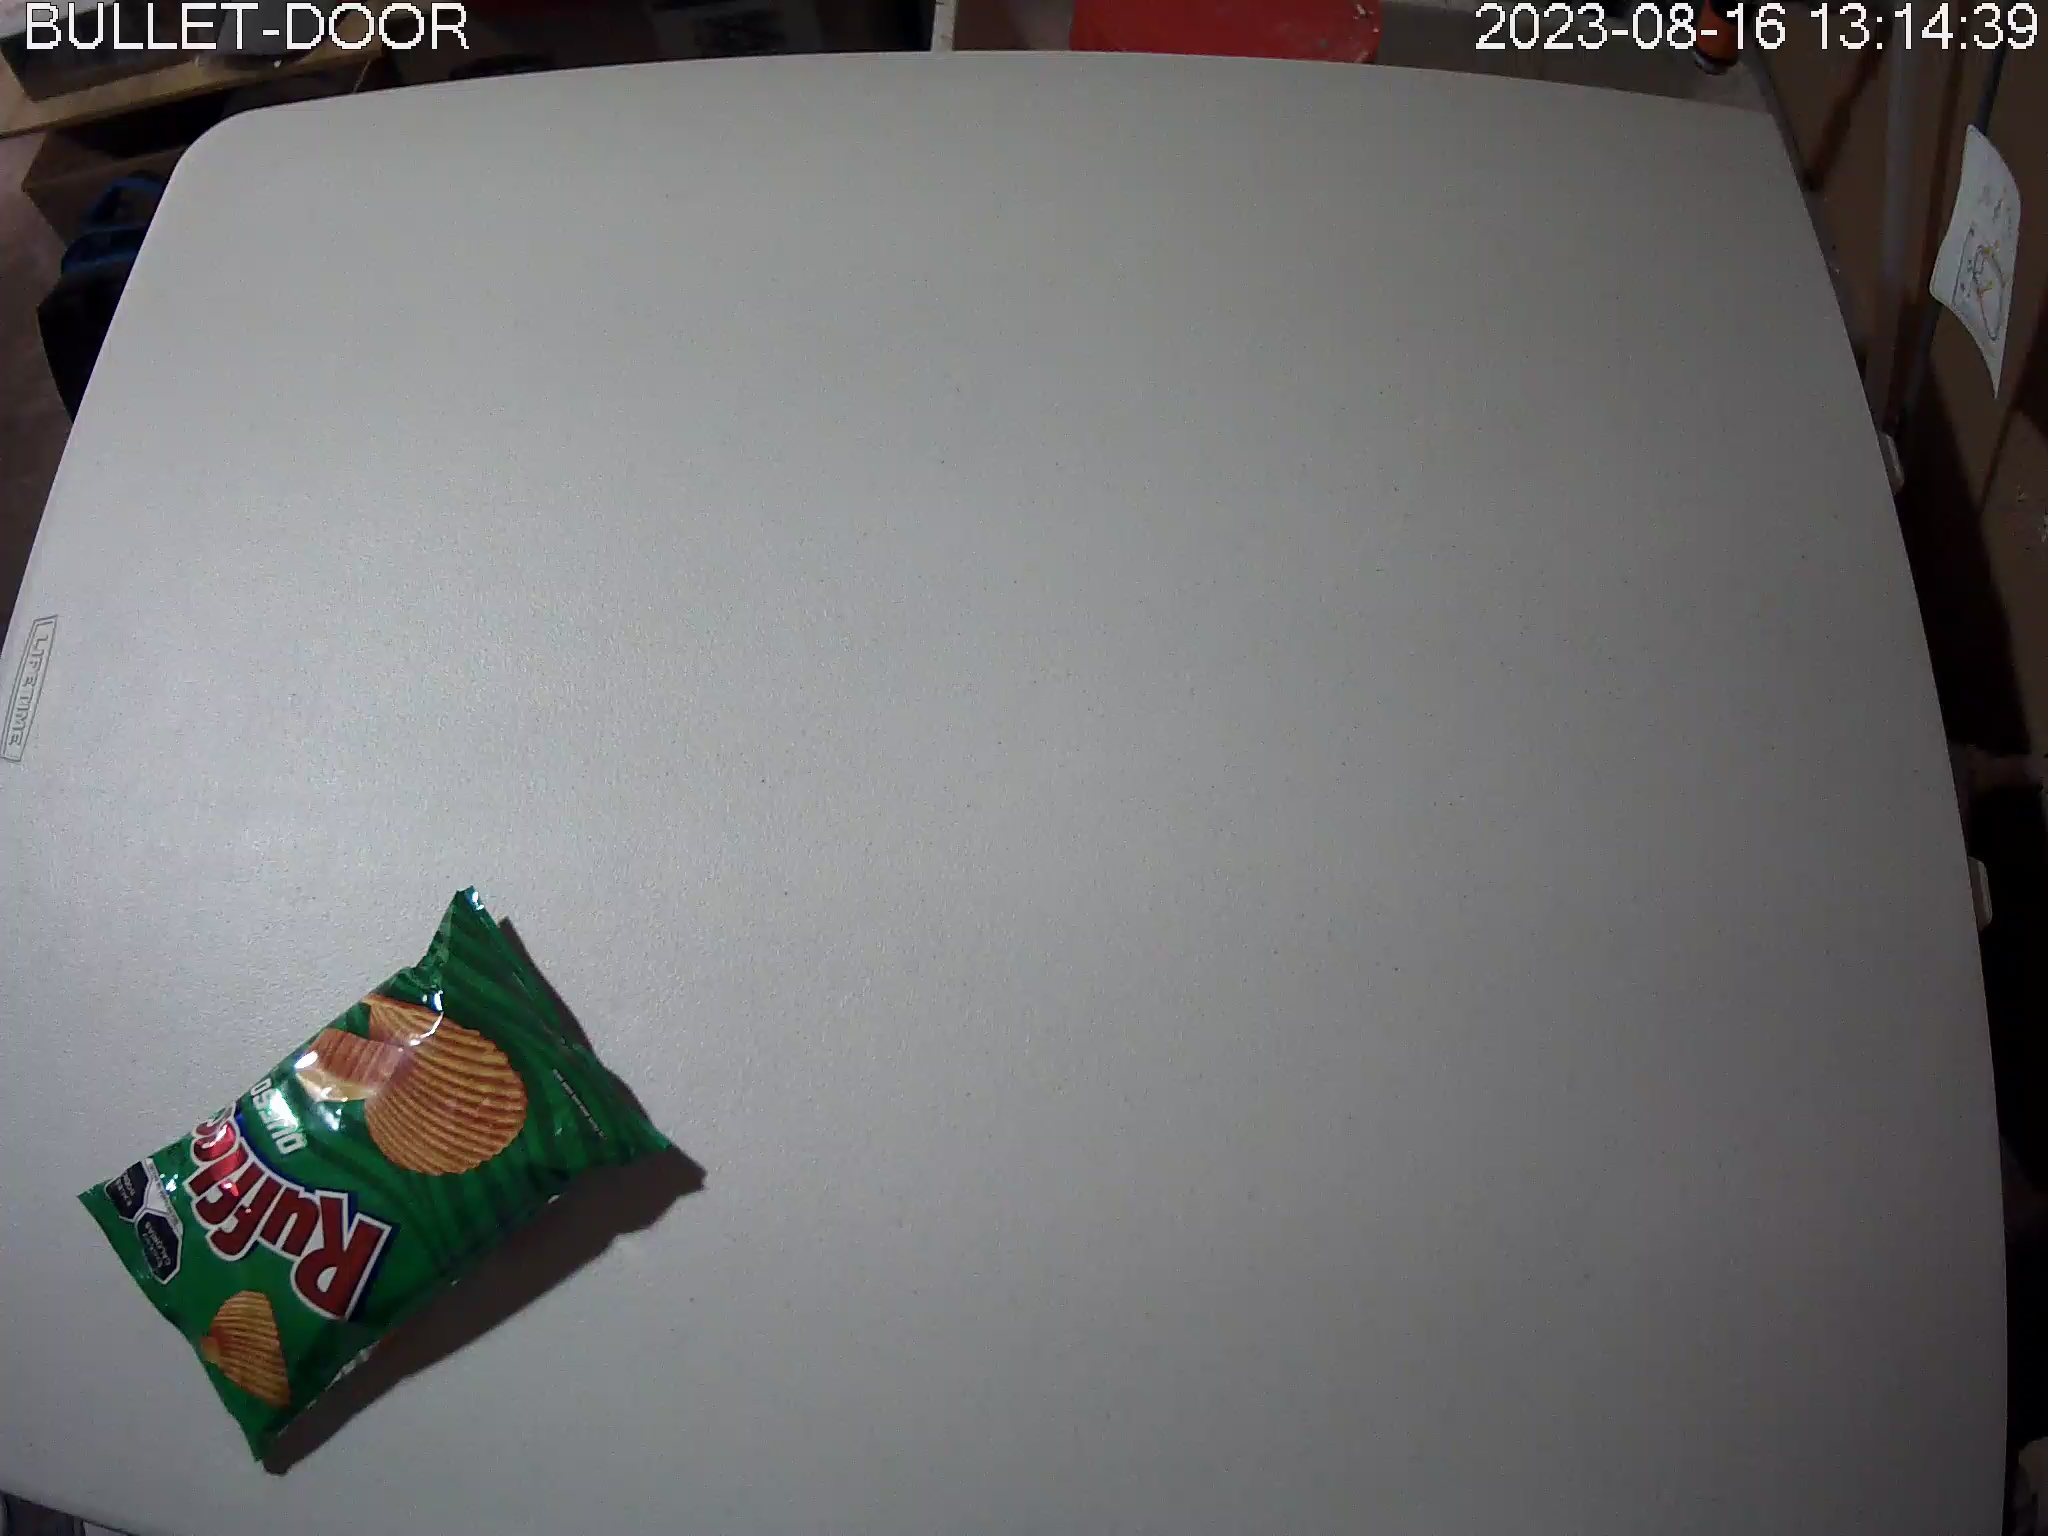RufflesQ_48_F: (79, 884, 671, 1468)
